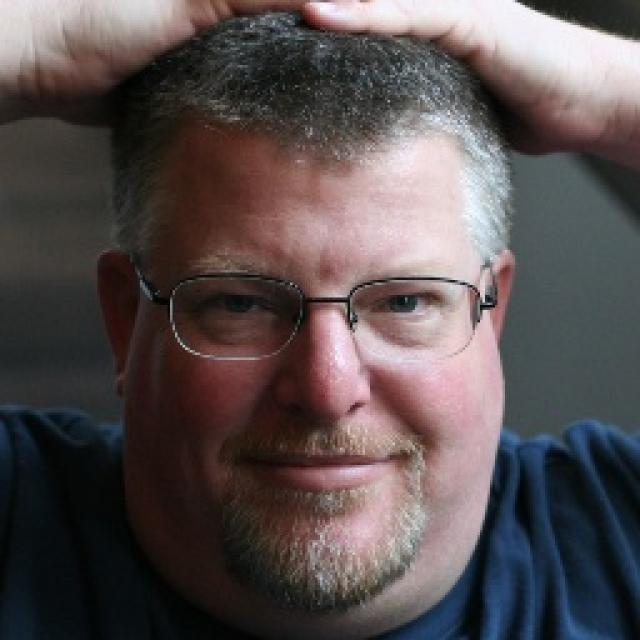earlobe: (96, 250, 131, 400)
